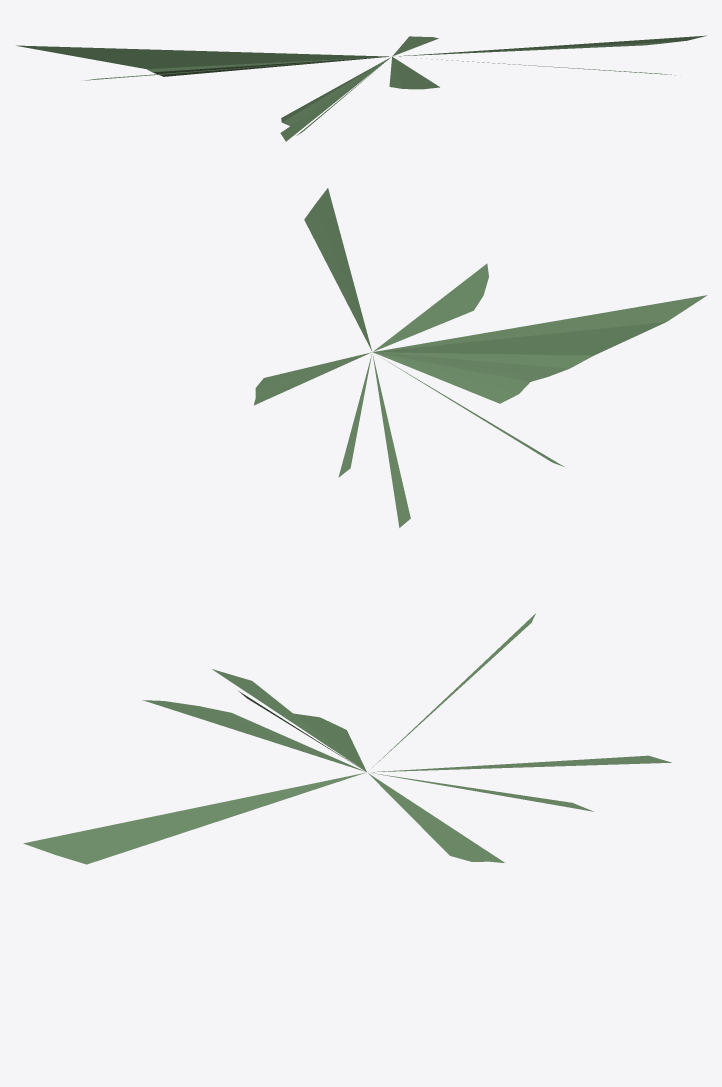
File: c_1670_17833_forest.glb
The picture shows the model from 3 angles, top to bottom: view 1: azimuth 30°, elevation 25°; view 2: azimuth 150°, elevation 25°; view 3: azimuth 270°, elevation 25°; orthographic projection. The views are drawn at different scales.
Parts seen in each view (by area): view 1: geometry_0; view 2: geometry_0; view 3: geometry_0.
Part boxes in pixels (left/top/right/bottom): geometry_0: left=16, top=35, right=706, bottom=141; geometry_0: left=253, top=188, right=707, bottom=527; geometry_0: left=23, top=613, right=671, bottom=864.
Bounding box in the file's own units: 562 × 112 × 443.
